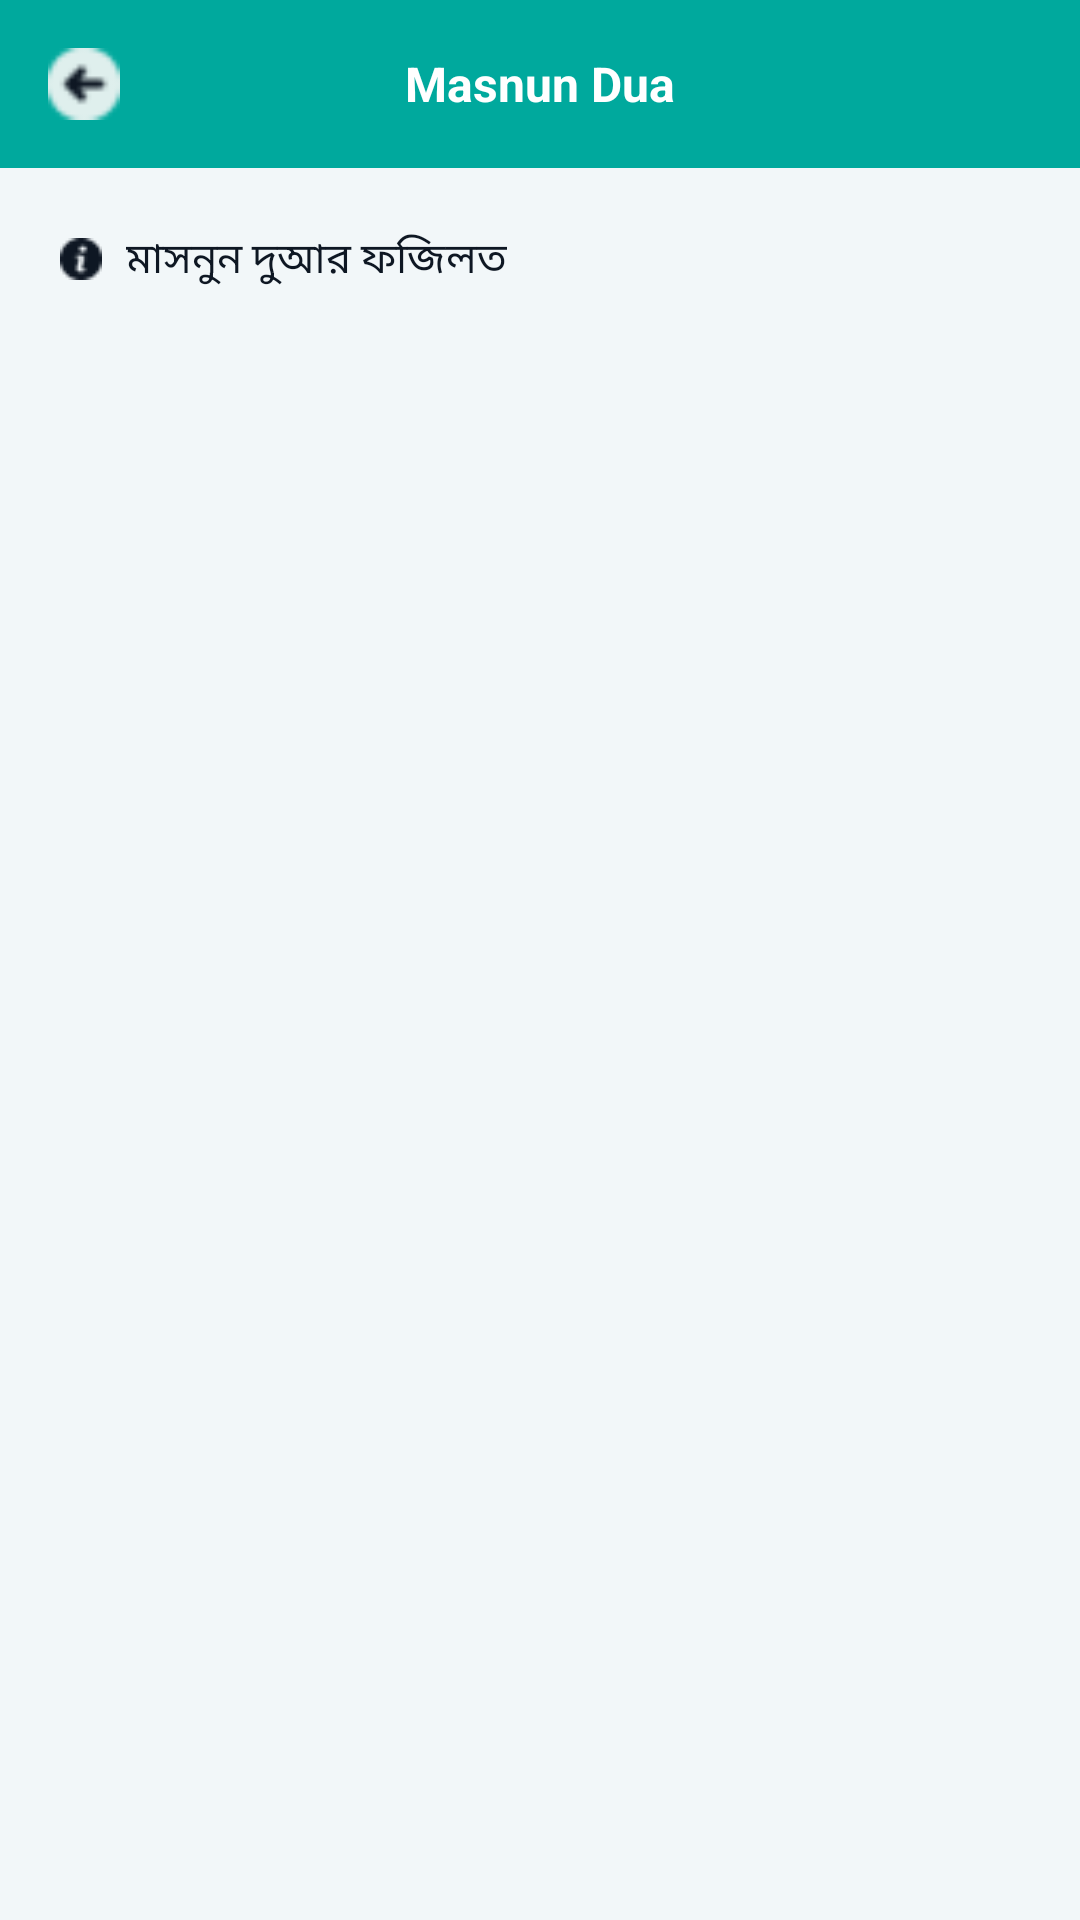

Icon click points for this 1080 x 1920 phone screenshot, format (x,y):
previous: (84,84)
